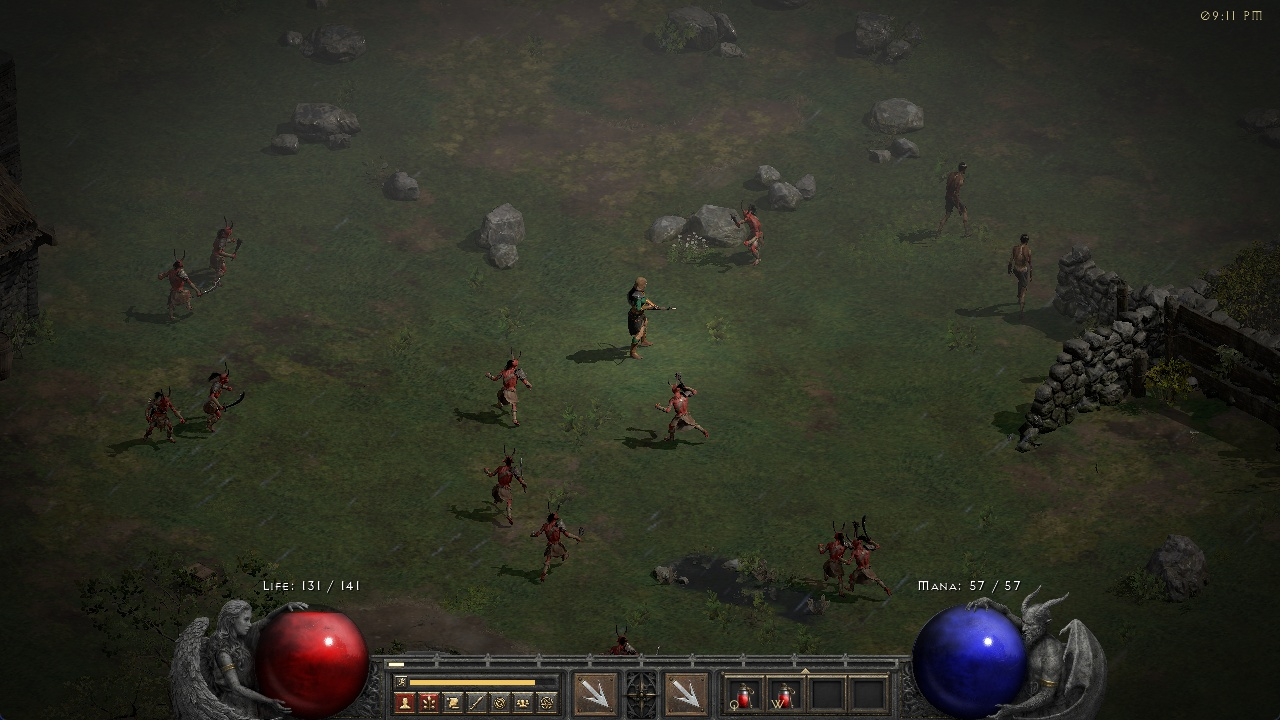fallen: (649, 369, 715, 448), (534, 500, 588, 579), (489, 347, 541, 429), (481, 444, 532, 525), (198, 359, 251, 435), (727, 198, 776, 270), (153, 247, 201, 316), (145, 382, 192, 451), (853, 513, 884, 602), (210, 216, 246, 286), (810, 518, 849, 581), (598, 619, 644, 655)
